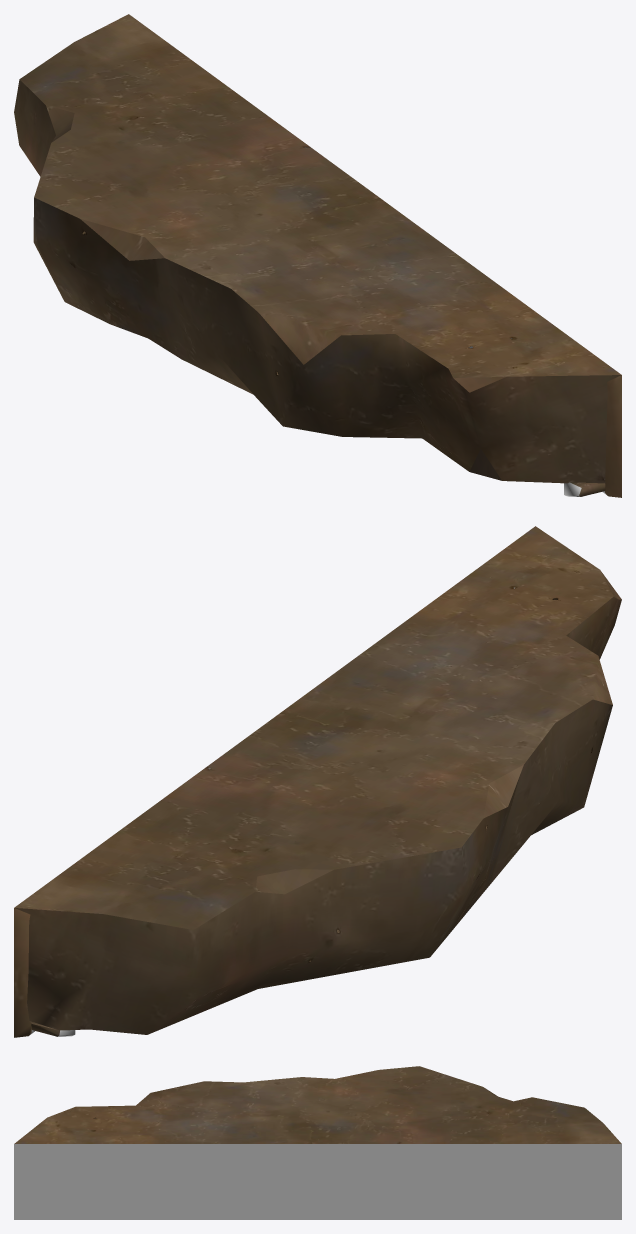
3 views of the same model, one above another, from view 1: azimuth 30°, elevation 25°; view 2: azimuth 150°, elevation 25°; view 3: azimuth 270°, elevation 25° (orthographic). The views are drawn at different scales.
Parts seen in each view (by area): view 1: SM_Vault_4x4_Ceiling_Dmg_03_LOD0; view 2: SM_Vault_4x4_Ceiling_Dmg_03_LOD0; view 3: SM_Vault_4x4_Ceiling_Dmg_03_LOD0.
Boxes of the visible parts, x1,y1,x2,y2 form: SM_Vault_4x4_Ceiling_Dmg_03_LOD0: [14, 14, 621, 497]; SM_Vault_4x4_Ceiling_Dmg_03_LOD0: [14, 526, 621, 1037]; SM_Vault_4x4_Ceiling_Dmg_03_LOD0: [14, 1066, 621, 1219].
Bounding box in the file's own units: 1.21 × 0.5675 × 4.
